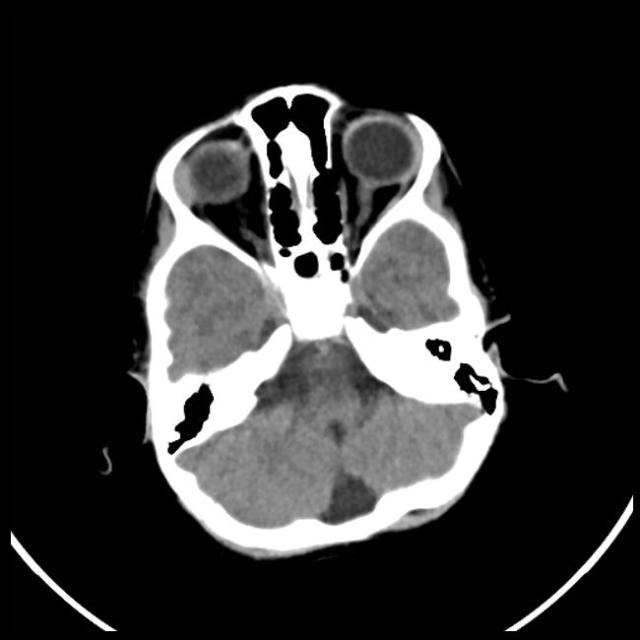lesion: (129, 79, 530, 560)
